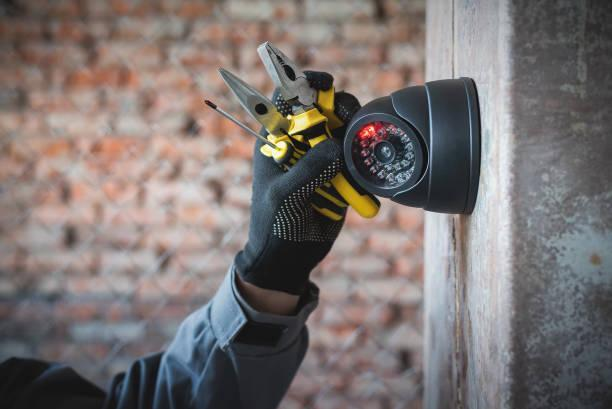camera: (339, 72, 505, 219)
